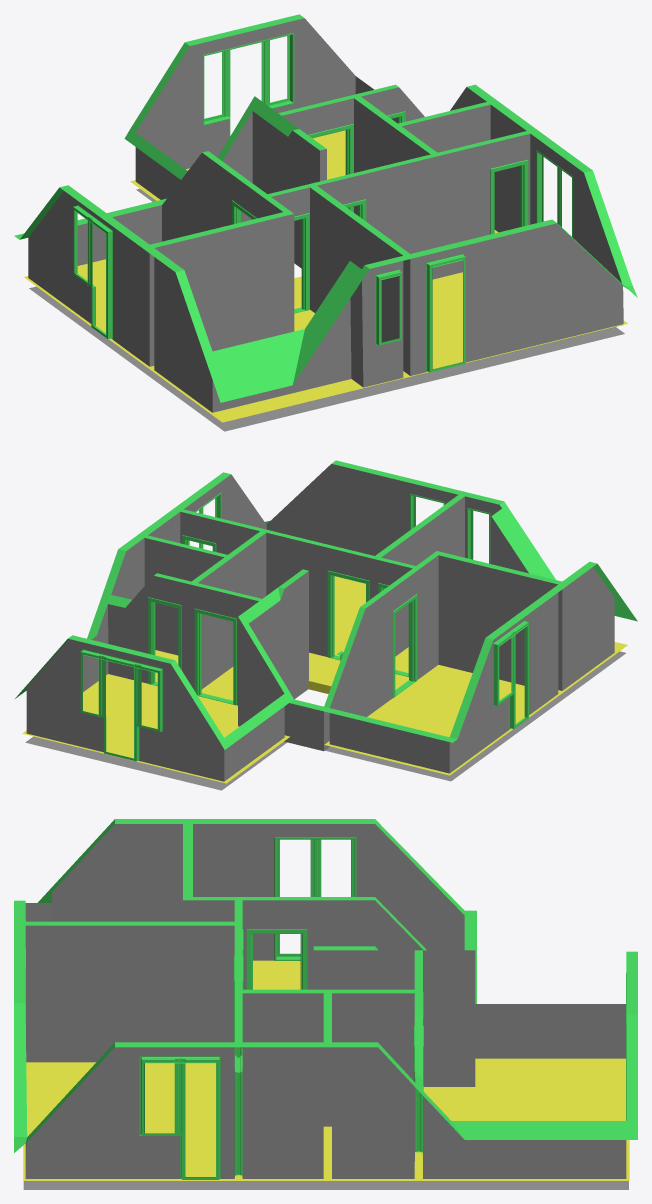
Rendered from walls2floor.FBX.
3 views of the same model, one above another, from view 1: azimuth 30°, elevation 25°; view 2: azimuth 150°, elevation 25°; view 3: azimuth 270°, elevation 25° (orthographic). The views are drawn at different scales.
Parts seen in each view (by area): view 1: walls2floor; view 2: walls2floor; view 3: walls2floor.
Part boxes in pixels (x1,y1,x2,y2): walls2floor: (14,14,637,431); walls2floor: (15,460,637,790); walls2floor: (14,819,637,1189).
Size of the model in its own units: 930 by 280 by 1075.
